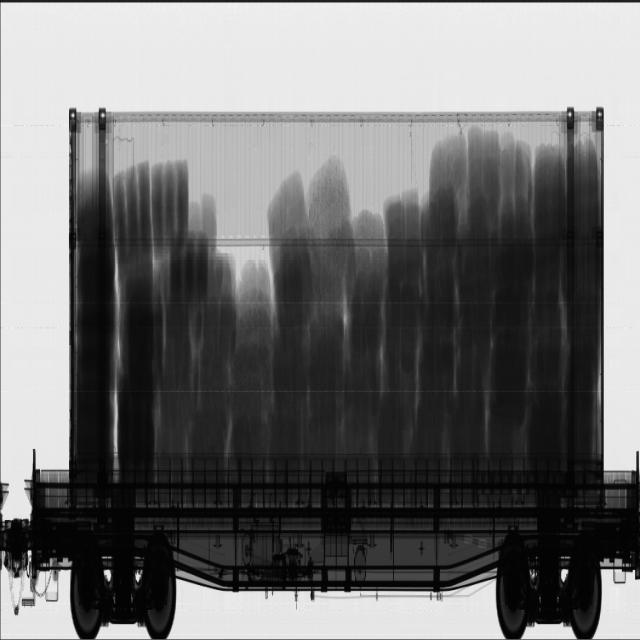clothes: (384, 127, 600, 458), (73, 160, 233, 459)
textiles: (227, 154, 386, 466)
